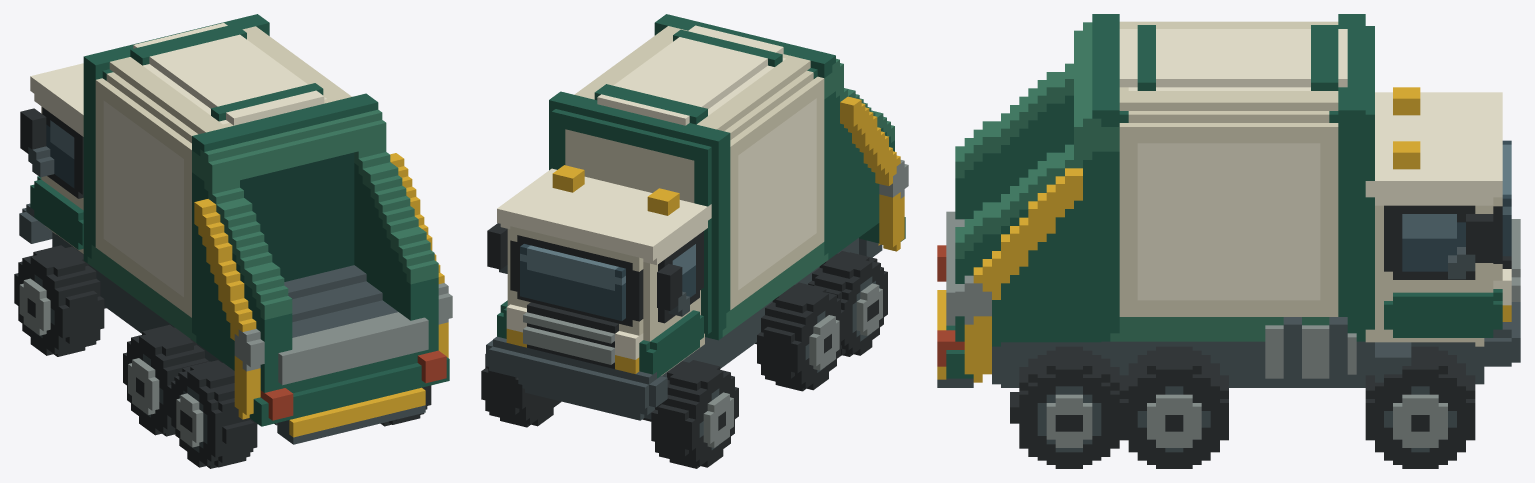
File: collection_truck.glb
The picture shows the model from 3 angles, left to right: view 1: azimuth 30°, elevation 25°; view 2: azimuth 150°, elevation 25°; view 3: azimuth 270°, elevation 25°; orthographic projection. The views are drawn at different scales.
Parts seen in each view (by area): view 1: collection_truck; view 2: collection_truck; view 3: collection_truck.
Boxes of the visible parts, bbox=[...] form: collection_truck: bbox=[14, 14, 452, 468]; collection_truck: bbox=[481, 14, 908, 468]; collection_truck: bbox=[937, 14, 1520, 468].
Size of the model in its own units: 3.63 by 4.73 by 7.04.
